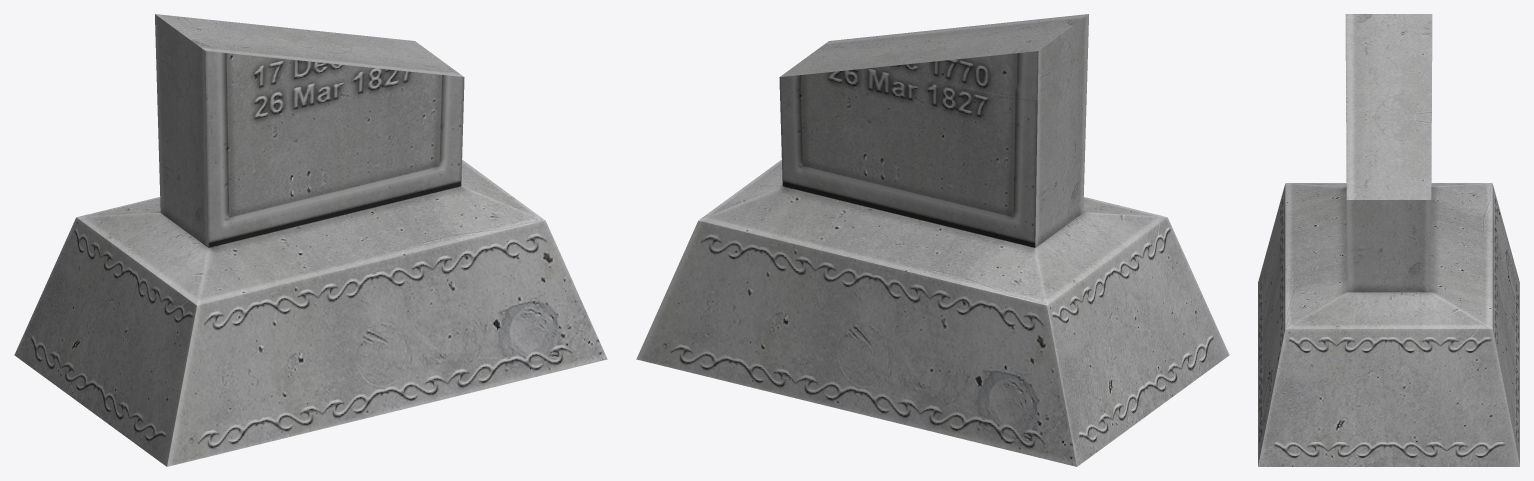
File: grave1_brk1.FBX
3 views of the same model, side by side, from view 1: azimuth 30°, elevation 25°; view 2: azimuth 150°, elevation 25°; view 3: azimuth 270°, elevation 25° (orthographic). The views are drawn at different scales.
Visible parts, largest first — view 1: grave1_brk1; view 2: grave1_brk1; view 3: grave1_brk1.
Part boxes in pixels (box(x1,y1,x2,y2)): grave1_brk1: box(14, 14, 607, 466); grave1_brk1: box(636, 14, 1229, 466); grave1_brk1: box(1258, 14, 1519, 466).
Bounding box in the file's own units: 50 × 38.67 × 30.
